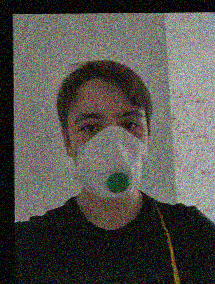with_mask: (68, 90, 149, 200)
